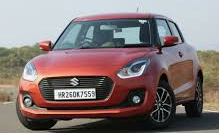car: (14, 10, 203, 133)
